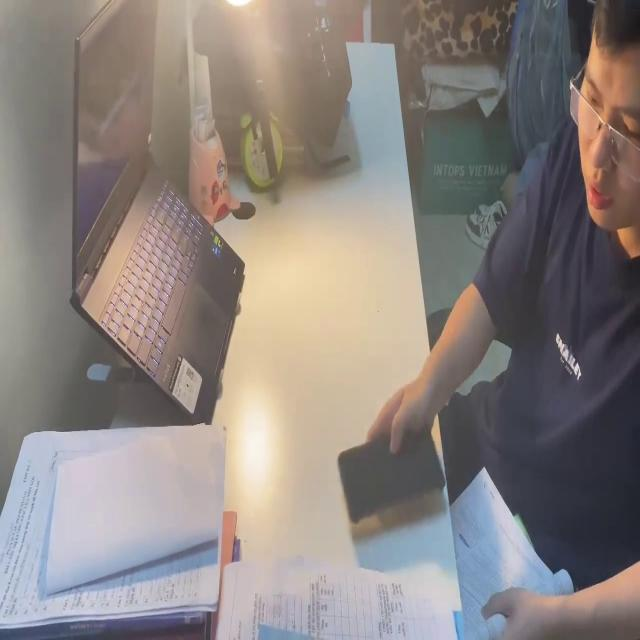book: (0, 417, 233, 640), (216, 544, 448, 640), (448, 468, 570, 640)
laptop: (66, 0, 243, 424)
phone: (328, 422, 451, 536)
student: (356, 0, 640, 640)
